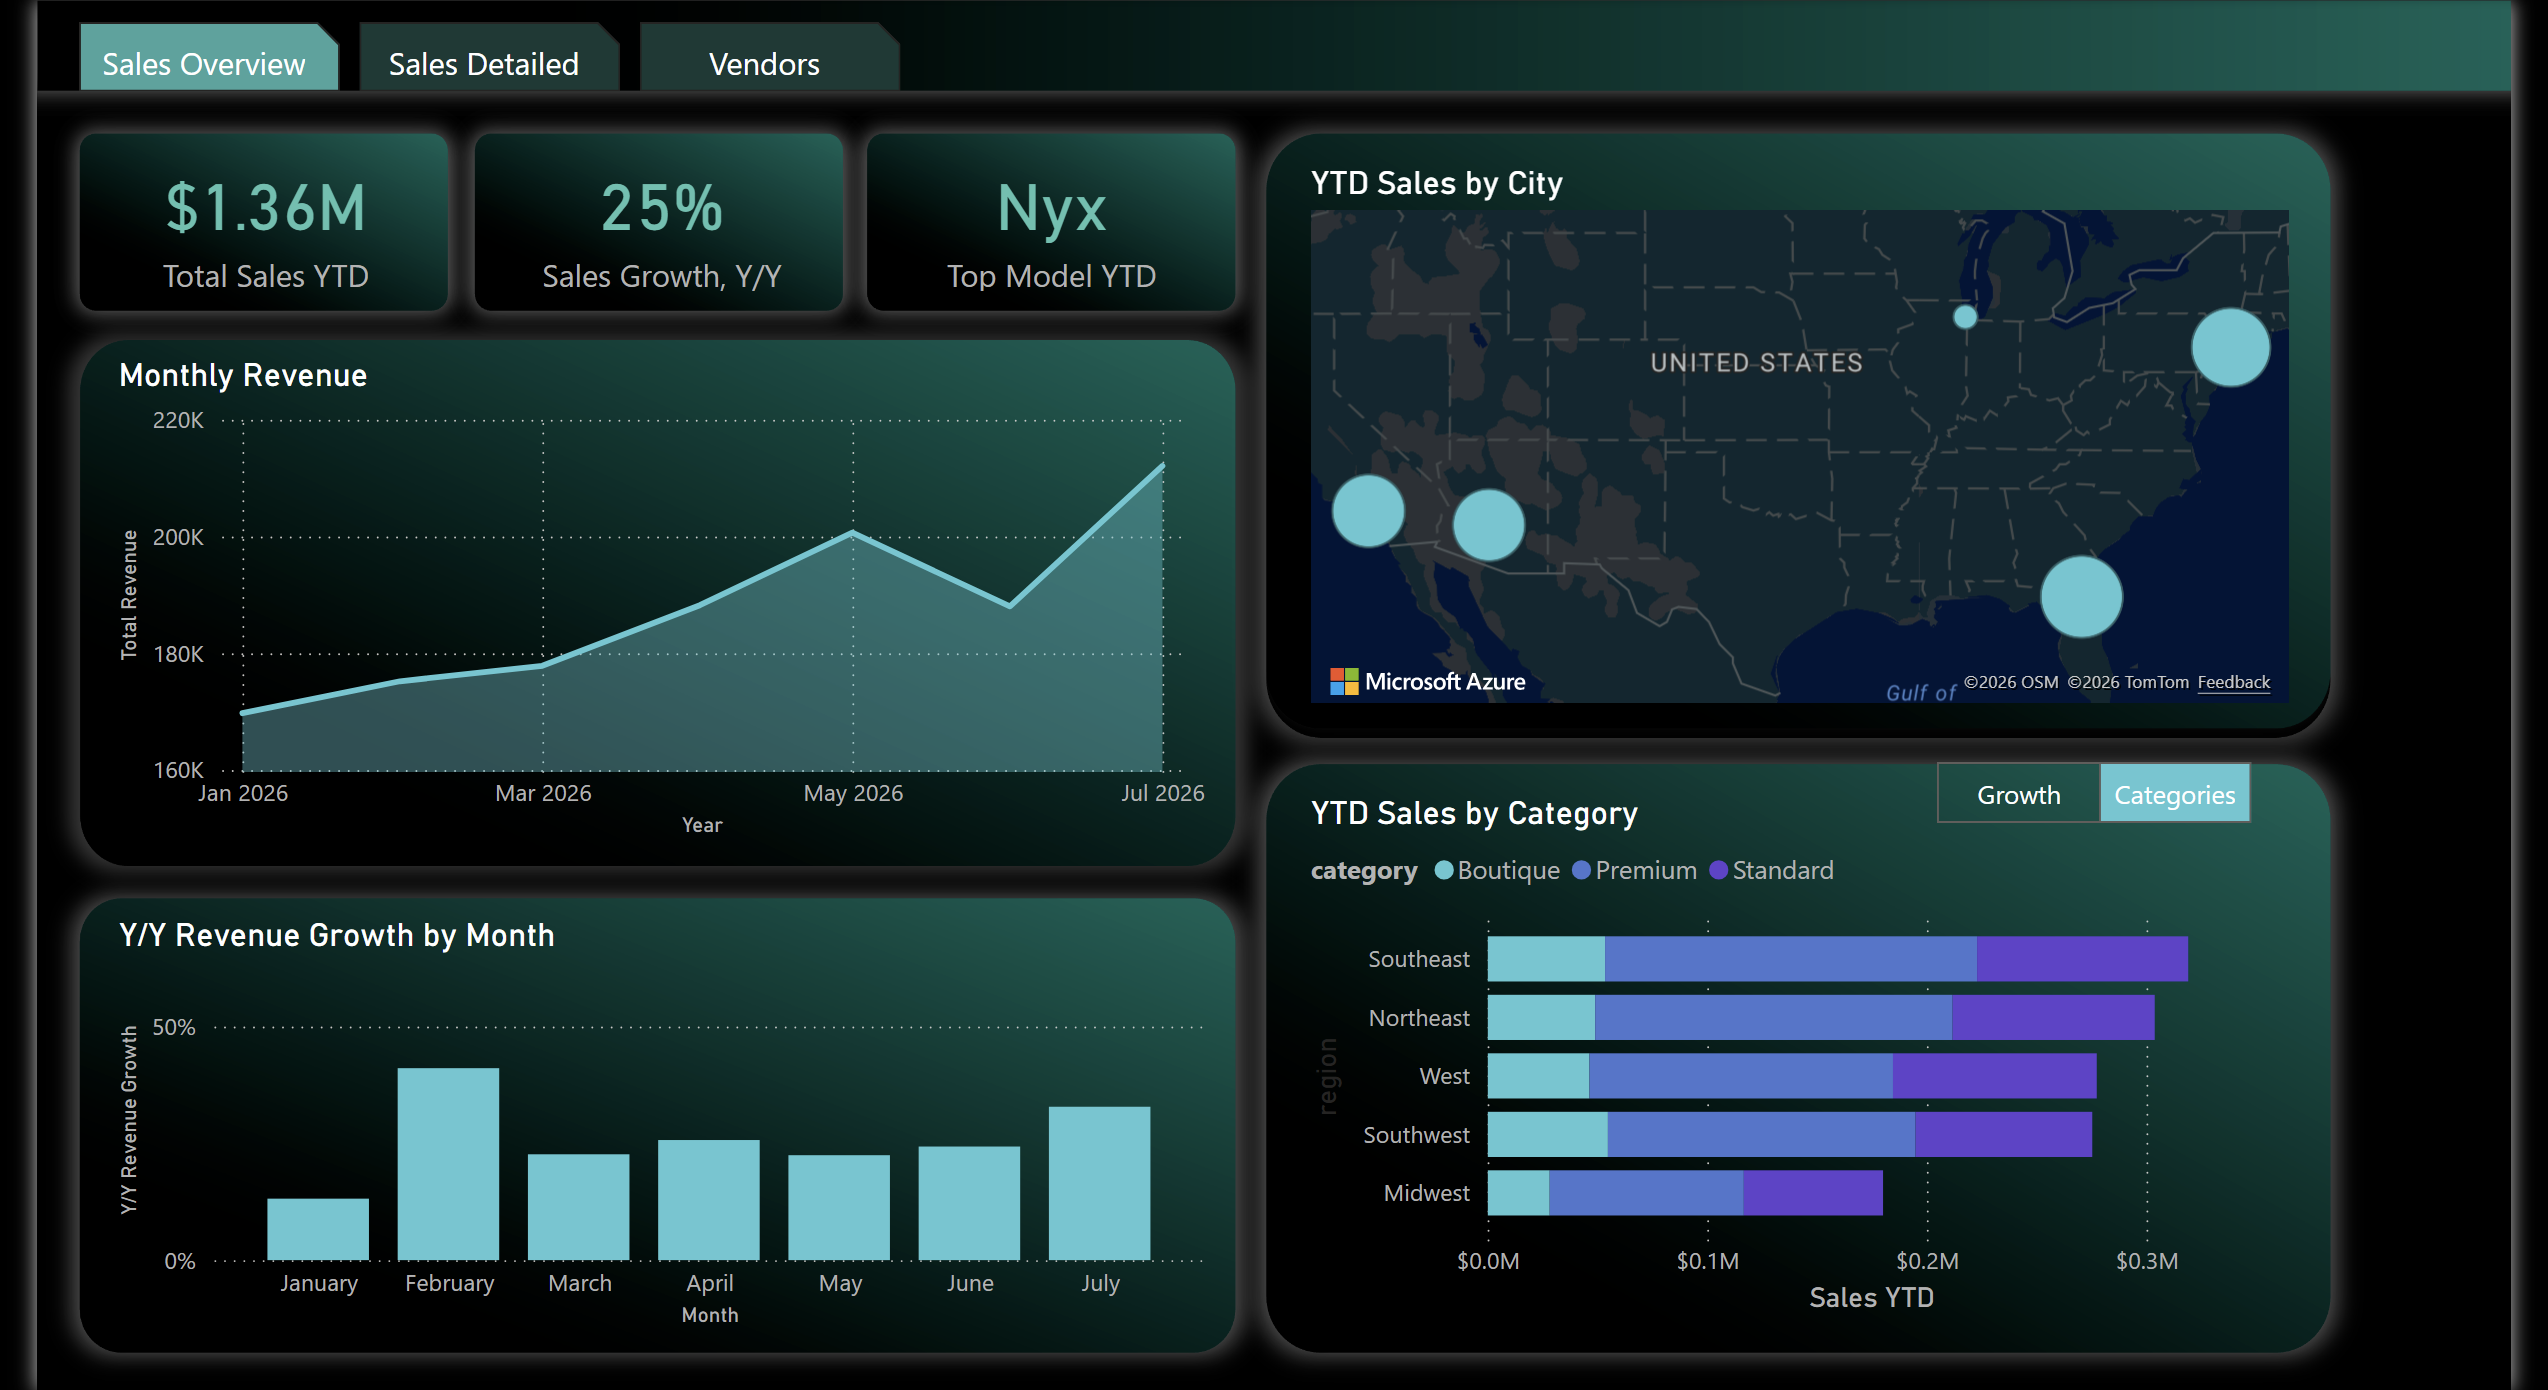

This screenshot's page, from the dashboard's own definition file:
{"tool":"powerbi","page":{"name":"Sales Overview","canvas":[1280,720],"ordinal":0},"visuals":[{"type":"pageNavigator","box":[22.1,11.6,425.7,36.8],"z":0},{"type":"clusteredBarChart","title":"Y/Y Sales Growth by Region","fields":{"Category":["df_distributors.region"],"Y":["df_orders.Sales Growth, Y/Y"]},"box":[653.8,411,516.1,273.3],"z":0,"group":"g1"},{"type":"group","id":"g1","title":"GroupGrowth","box":[653.8,394.2,516.1,290.1],"z":1000},{"type":"actionButton","box":[982.8,394.2,85.1,31.5],"z":1000,"group":"g1"},{"type":"actionButton","box":[1067.9,394.2,78.8,31.5],"z":2000,"group":"g1"},{"type":"card","fields":{"Values":["df_orders.Total Sales YTD"]},"box":[29.1,74.3,178.9,80.8],"z":3000},{"type":"card","fields":{"Values":["df_orders.Sales Growth, Y/Y"]},"box":[233.8,74.3,178.9,80.8],"z":4000},{"type":"card","fields":{"Values":["df_orders.Top Model YTD"]},"box":[435.3,74.3,178.9,80.8],"z":5000},{"type":"stackedAreaChart","title":"Monthly Revenue","fields":{"Category":["df_orders.date.Variation.Date Hierarchy.Year","df_orders.date.Variation.Date Hierarchy.Quarter","df_orders.date.Variation.Date Hierarchy.Month"],"Y":["df_orders.Total Revenue"]},"box":[36.9,184.4,571.9,253.1],"z":6000},{"type":"clusteredColumnChart","fields":{"Category":["df_orders.date.Variation.Date Hierarchy.Month"],"Y":["df_orders.YoY Revenue"]},"box":[37,474,572,217],"z":7000},{"type":"azureMap","title":"YTD Sales by City","fields":{"Category":["df_distributors.city"],"Size":["df_orders.Total Sales YTD"]},"box":[653.6,85,516.4,283.6],"z":8000}]}

Visuals, with their boxes on the page's 1280x720 design canvas (x1, y1, x2, y2). These are canvas units, not pixel positions in the 2548x1390 screenshot, which may show the page scaled, cropped or inside an application window:
pageNavigator: bbox=[22, 12, 448, 48]
"Y/Y Sales Growth by Region" clusteredBarChart: bbox=[654, 411, 1170, 684]
"GroupGrowth" group: bbox=[654, 394, 1170, 684]
actionButton: bbox=[983, 394, 1068, 426]
actionButton: bbox=[1068, 394, 1147, 426]
card - df_orders.Total Sales YTD: bbox=[29, 74, 208, 155]
card - df_orders.Sales Growth, Y/Y: bbox=[234, 74, 413, 155]
card - df_orders.Top Model YTD: bbox=[435, 74, 614, 155]
"Monthly Revenue" stackedAreaChart: bbox=[37, 184, 609, 438]
clusteredColumnChart - df_orders.date.Variation.Date Hierarchy.Month x df_orders.YoY Revenue: bbox=[37, 474, 609, 691]
"YTD Sales by City" azureMap: bbox=[654, 85, 1170, 369]
